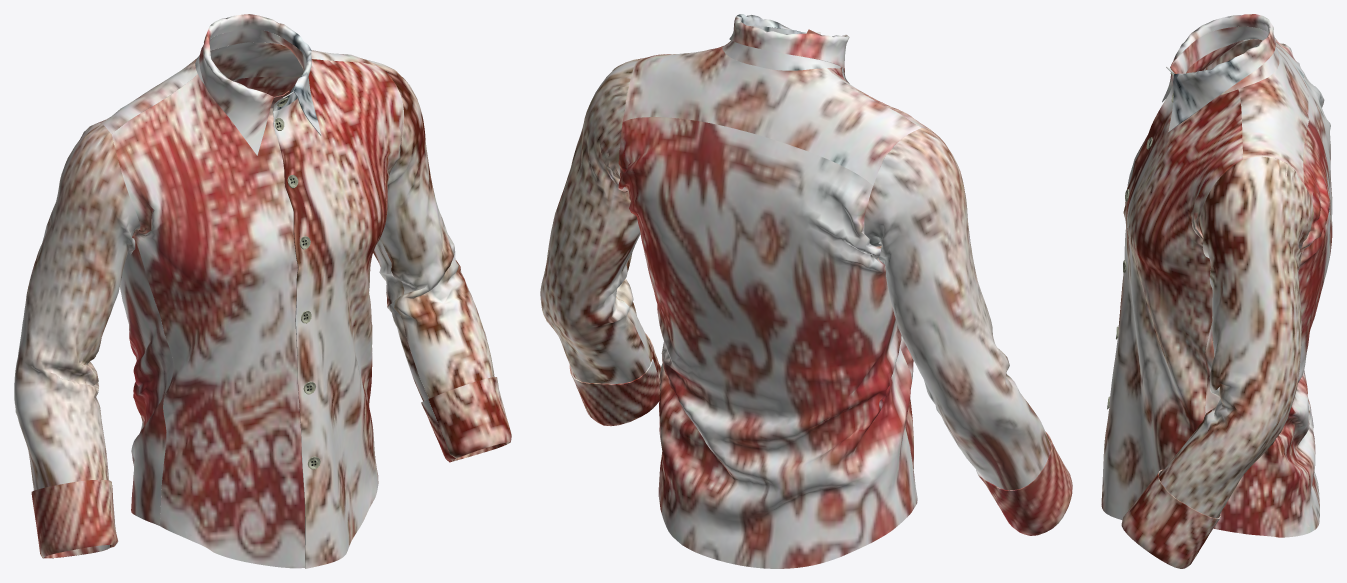
Rendered from batik_shirt.glb.
3 views of the same model, side by side, from view 1: azimuth 30°, elevation 25°; view 2: azimuth 150°, elevation 25°; view 3: azimuth 270°, elevation 25° (orthographic). The views are drawn at different scales.
Visible parts, largest first — view 1: Object_7, Object_3, Object_5, Object_4, Object_6, Object_2; view 2: Object_6, Object_5, Object_4, Object_7; view 3: Object_4, Object_3, Object_6, Object_7, Object_5.
Boxes of the visible parts, x1,y1,x2,y2 form: Object_7: (99,42,376,568); Object_3: (273,59,403,568); Object_5: (14,122,140,558); Object_4: (195,14,511,462); Object_6: (120,76,299,525); Object_2: (275,97,320,469); Object_6: (617,117,915,568); Object_5: (864,128,1072,535); Object_4: (540,14,849,426); Object_7: (622,46,933,504); Object_4: (1121,14,1313,568); Object_3: (1101,86,1242,519); Object_6: (1205,73,1332,537); Object_7: (1127,39,1309,187); Object_5: (1205,38,1300,70).
Bounding box in the file's own units: 0.6443 × 0.6587 × 0.2865.
2 materials, 2 textured.
